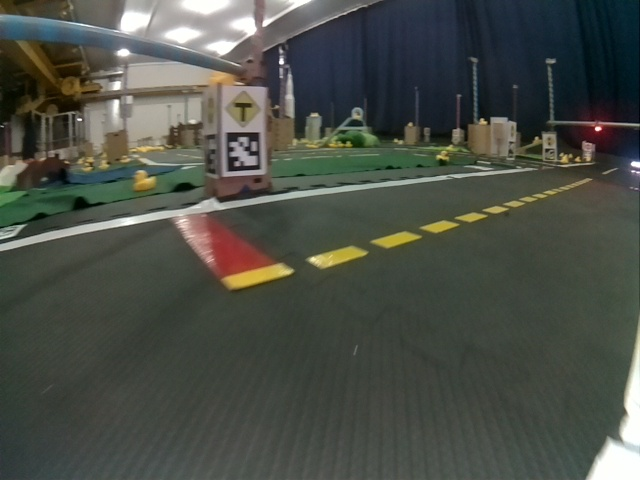Duckie: (132, 170, 156, 191), (436, 150, 449, 161)
Intersection sign: (225, 91, 261, 127)
QR code: (226, 132, 260, 172), (204, 134, 218, 177)
